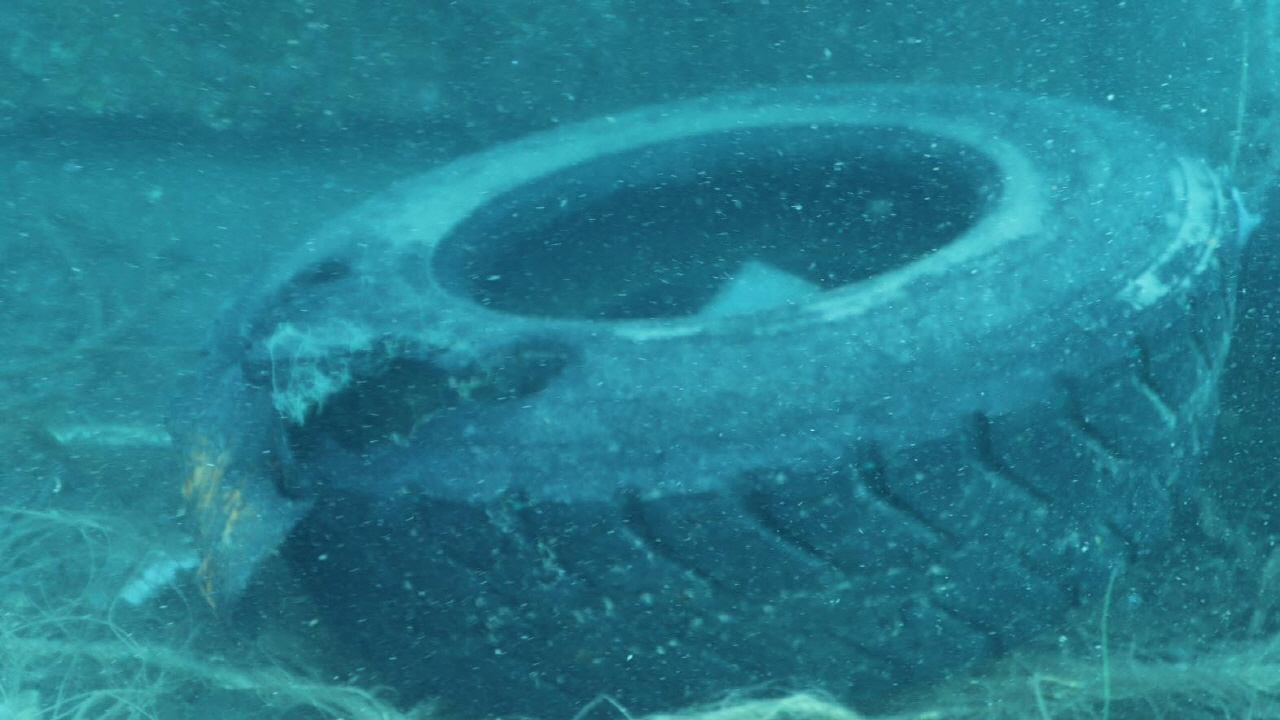tire: (237, 75, 1239, 713)
